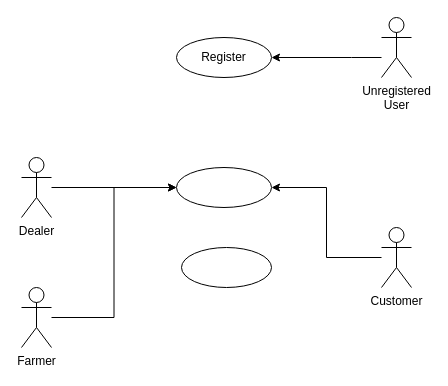
The diagram is 448 pixels wide and 386 high, and some of its shapes have lost their labels. The shapes that lost their labels are listed below. From the top down, each one's box as (x1, y1, x2, y2) in pixels, then its label:
(176, 166, 272, 208): Login
(180, 246, 272, 288): View Produce
